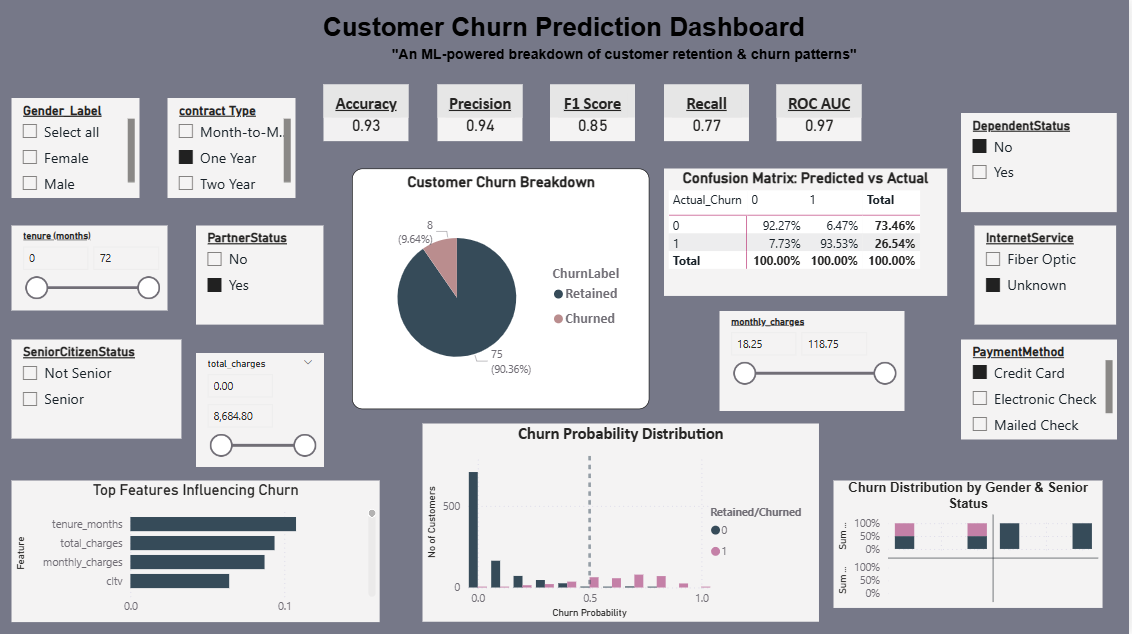

The dashboard page shown, as its layout file describes it:
{"tool":"powerbi","page":{"name":"Churn Dashboard","canvas":[1280,720],"ordinal":0},"visuals":[{"type":"card","title":"Accuracy","fields":{"Values":["Sum(model_performance_metrics.Score)"]},"box":[368,96,96,64],"z":0},{"type":"card","title":"F1 Score","fields":{"Values":["Sum(model_performance_metrics.Score)"]},"box":[624,96,96,64],"z":1000},{"type":"card","title":"Precision","fields":{"Values":["Sum(model_performance_metrics.Score)"]},"box":[496,96,96,64],"z":2000},{"type":"card","title":"Recall","fields":{"Values":["Sum(model_performance_metrics.Score)"]},"box":[752,96,96,64],"z":3000},{"type":"card","title":"ROC AUC","fields":{"Values":["Sum(model_performance_metrics.Score)"]},"box":[880,96,96,64],"z":4000},{"type":"pivotTable","title":"Confusion Matrix: Predicted vs Actual","fields":{"Columns":["rf_churn_predictions_with_id.Predicted_Churn"],"Values":["Min(rf_churn_predictions_with_id.CustomerID)"],"Rows":["rf_churn_predictions_with_id.Actual_Churn"]},"box":[752,192,320,144],"z":5000},{"type":"clusteredColumnChart","title":"Churn Probability Distribution","fields":{"Category":["rf_churn_predictions_with_id.Churn_Probability(bins)"],"Y":["CountNonNull(rf_churn_predictions_with_id.CustomerID)"],"Series":["rf_churn_predictions_with_id.Actual_Churn"]},"box":[480,480,448,224],"z":6000},{"type":"hundredPercentStackedColumnChart","title":"Churn Distribution by Gender & Senior Status","fields":{"Category":["processed_churn_data.gender"],"Series":["processed_churn_data.senior_citizen"],"Rows":["processed_churn_data.churn_label"],"Y":["Sum(rf_churn_predictions_with_id.Actual_Churn)"]},"box":[944,544,304,144],"z":7000},{"type":"pieChart","title":"Customer Churn Breakdown","fields":{"Y":["CountNonNull(processed_churn_data.churn_label)"],"Category":["processed_churn_data.ChurnLabel_Formated"]},"box":[400,192,336,272],"z":7001},{"type":"slicer","fields":{"Values":["processed_churn_data.Gender_Label"]},"box":[16,112,144,112],"z":7002},{"type":"clusteredBarChart","title":"Top Features Influencing Churn","fields":{"Category":["rf_feature_importance.Feature"],"Y":["Sum(rf_feature_importance.Importance)"]},"box":[16,544,416,160],"z":7003},{"type":"slicer","fields":{"Values":["processed_churn_data.ContractType"]},"box":[192,112,144,112],"z":7004},{"type":"slicer","title":"tenu","fields":{"Values":["processed_churn_data.tenure_months"]},"box":[16,256,176,96],"z":7005},{"type":"slicer","fields":{"Values":["processed_churn_data.SeniorCitizenStatus"]},"box":[16,384,192,112],"z":7006},{"type":"slicer","fields":{"Values":["processed_churn_data.PaymentMethod"]},"box":[1088,384,176,112],"z":7007},{"type":"slicer","fields":{"Values":["processed_churn_data.InternetServiceType"]},"box":[1104,256,160,112],"z":7008},{"type":"slicer","fields":{"Values":["processed_churn_data.total_charges"]},"box":[224,400,144,128],"z":7009},{"type":"slicer","fields":{"Values":["processed_churn_data.monthly_charges"]},"box":[816,352,208,112],"z":7010},{"type":"slicer","fields":{"Values":["processed_churn_data.PartnerStatus"]},"box":[224,256,144,112],"z":7011},{"type":"slicer","fields":{"Values":["processed_churn_data.DependentStatus"]},"box":[1088,128,176,112],"z":7012},{"type":"textbox","title":"Customer Churn Prediction Dashboard","box":[304,16,672,112],"z":7014}]}

Visuals, with their boxes in screenshot pixels (x1, y1, x2, y2), scaled from the page's 1280x720 canvas onto the 1132x634 screenshot:
"Accuracy" card: rect(325, 85, 410, 141)
"F1 Score" card: rect(552, 85, 637, 141)
"Precision" card: rect(439, 85, 524, 141)
"Recall" card: rect(665, 85, 750, 141)
"ROC AUC" card: rect(778, 85, 863, 141)
"Confusion Matrix: Predicted vs Actual" pivotTable: rect(665, 169, 948, 296)
"Churn Probability Distribution" clusteredColumnChart: rect(424, 423, 821, 620)
"Churn Distribution by Gender & Senior Status" hundredPercentStackedColumnChart: rect(835, 479, 1104, 606)
"Customer Churn Breakdown" pieChart: rect(354, 169, 651, 409)
slicer - processed_churn_data.Gender_Label: rect(14, 99, 142, 197)
"Top Features Influencing Churn" clusteredBarChart: rect(14, 479, 382, 620)
slicer - processed_churn_data.ContractType: rect(170, 99, 297, 197)
"tenu" slicer: rect(14, 225, 170, 310)
slicer - processed_churn_data.SeniorCitizenStatus: rect(14, 338, 184, 437)
slicer - processed_churn_data.PaymentMethod: rect(962, 338, 1118, 437)
slicer - processed_churn_data.InternetServiceType: rect(976, 225, 1118, 324)
slicer - processed_churn_data.total_charges: rect(198, 352, 325, 465)
slicer - processed_churn_data.monthly_charges: rect(722, 310, 906, 409)
slicer - processed_churn_data.PartnerStatus: rect(198, 225, 325, 324)
slicer - processed_churn_data.DependentStatus: rect(962, 113, 1118, 211)
"Customer Churn Prediction Dashboard" textbox: rect(269, 14, 863, 113)
